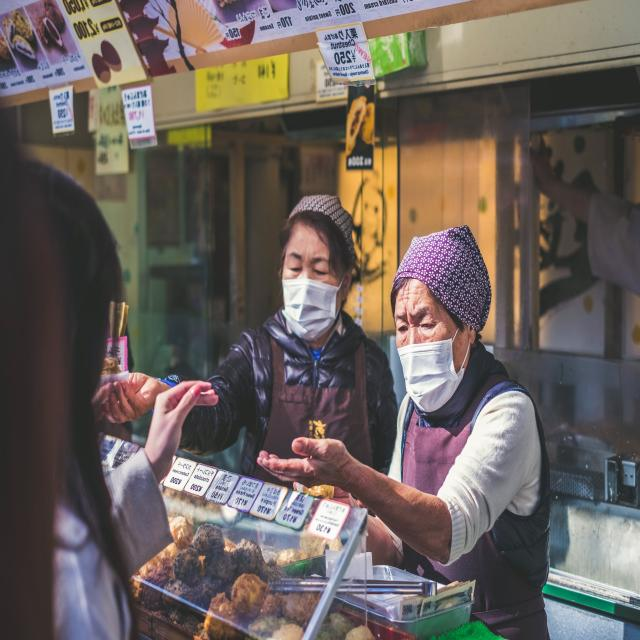adult: (257, 225, 544, 640), (91, 194, 393, 473)
